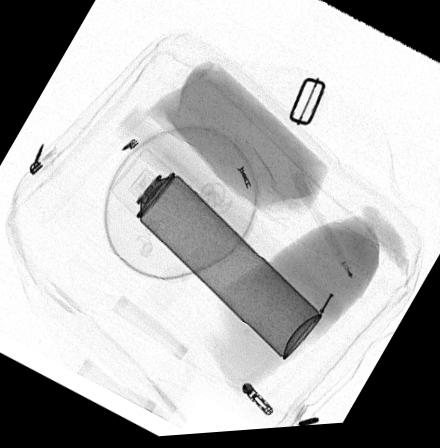Sprayer: (109, 148, 322, 364)
